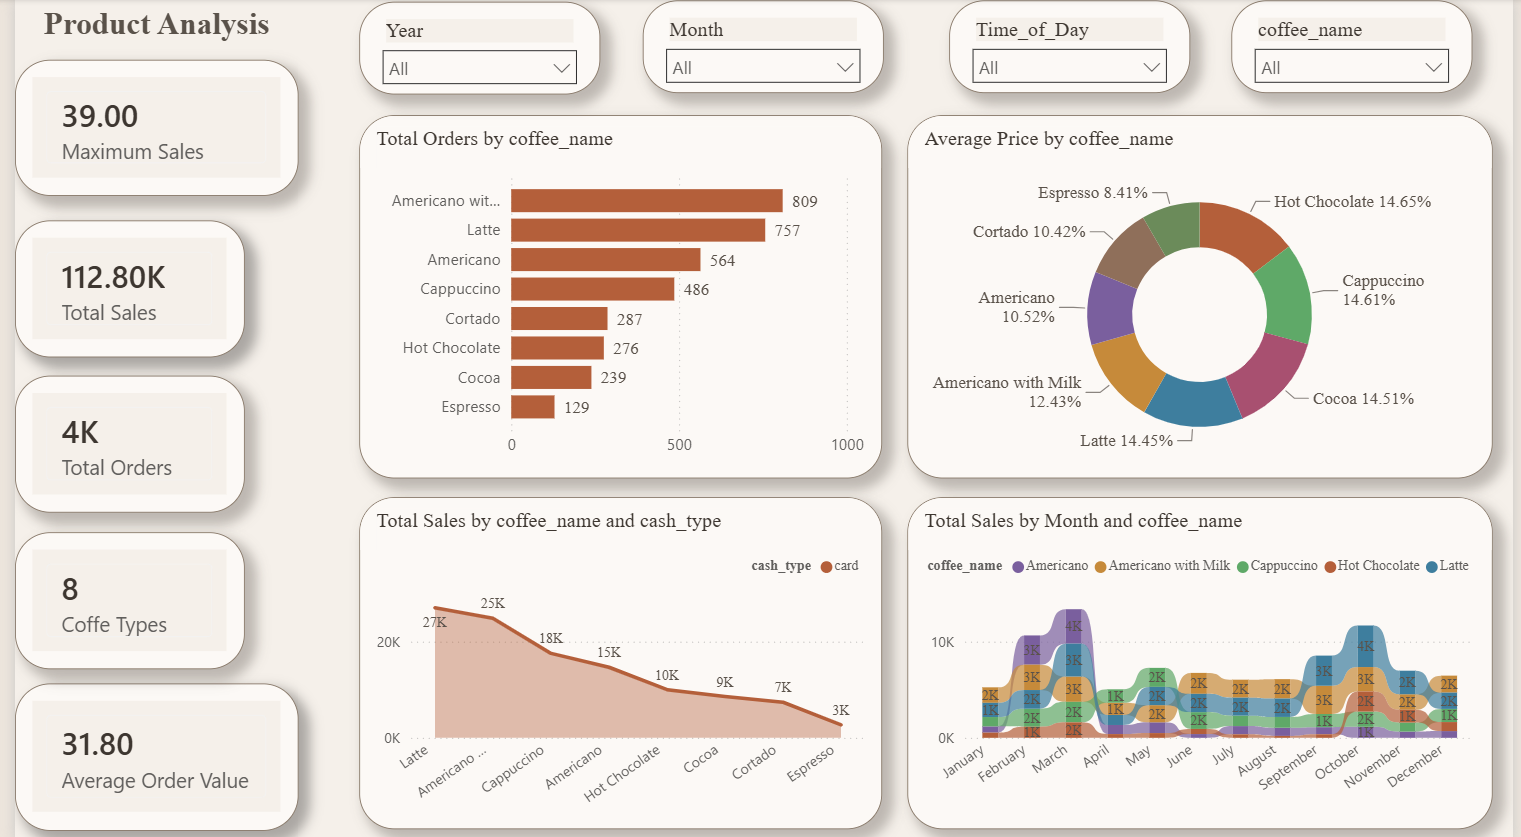

The dashboard page shown, as its layout file describes it:
{"tool":"powerbi","page":{"name":"Product Analysis","canvas":[1280,720],"ordinal":1},"visuals":[{"type":"cardVisual","fields":{"Data":["Coffee_shop sales.Total Sales"]},"box":[0,189.2,196.1,117.1],"z":0},{"type":"cardVisual","fields":{"Data":["Coffee_shop sales.Average Order Value"]},"box":[0,584.1,242.1,125.6],"z":1000},{"type":"cardVisual","fields":{"Data":["Coffee_shop sales.Total Orders"]},"box":[0,322.1,196.1,117.1],"z":2000},{"type":"cardVisual","fields":{"Data":["Coffee_shop sales.Coffe Types"]},"box":[0,455,196.1,117.1],"z":3000},{"type":"clusteredBarChart","fields":{"Category":["Coffee_shop sales.coffee_name"],"Y":["Coffee_shop sales.Total Orders"]},"box":[293.9,99.7,446.6,310.7],"z":4000},{"type":"donutChart","fields":{"Category":["Coffee_shop sales.coffee_name"],"Y":["Coffee_shop sales.Average Price"]},"box":[762.5,99.7,499.7,310.7],"z":5000},{"type":"areaChart","fields":{"Category":["Coffee_shop sales.coffee_name"],"Series":["Coffee_shop sales.cash_type"],"Y":["Coffee_shop sales.Total Sales"]},"box":[293.9,425.9,446.6,283.5],"z":7000},{"type":"slicer","fields":{"Values":["Coffee_shop sales.Year"]},"box":[293.9,2.6,205.8,79],"z":8000},{"type":"slicer","fields":{"Values":["Coffee_shop sales.Month"]},"box":[535.9,1.3,205.8,79],"z":9000},{"type":"slicer","fields":{"Values":["Coffee_shop sales.coffee_name"]},"box":[1039.5,1.3,205.8,79],"z":10000},{"type":"slicer","fields":{"Values":["Coffee_shop sales.Time_of_Day"]},"box":[797.5,1.3,205.8,79],"z":11000},{"type":"textbox","box":[0,0,242.1,51.8],"z":12000},{"type":"cardVisual","fields":{"Data":["Coffee_shop sales.Maximum Sales"]},"box":[0,51.8,242.1,116.5],"z":13000},{"type":"ribbonChart","fields":{"Category":["Coffee_shop sales.Date.Variation.Date Hierarchy.Month"],"Series":["Coffee_shop sales.coffee_name"],"Y":["Coffee_shop sales.Total Sales"]},"box":[762.5,425.9,499.7,283.5],"z":14000}]}

Visuals, with their boxes in screenshot pixels (x1, y1, x2, y2), scaled from the page's 1280x720 canvas onto the 1521x837 screenshot:
cardVisual - Coffee_shop sales.Total Sales: x1=0, y1=220, x2=233, y2=356
cardVisual - Coffee_shop sales.Average Order Value: x1=0, y1=679, x2=288, y2=825
cardVisual - Coffee_shop sales.Total Orders: x1=0, y1=374, x2=233, y2=511
cardVisual - Coffee_shop sales.Coffe Types: x1=0, y1=529, x2=233, y2=665
clusteredBarChart - Coffee_shop sales.coffee_name x Coffee_shop sales.Total Orders: x1=349, y1=116, x2=880, y2=477
donutChart - Coffee_shop sales.coffee_name x Coffee_shop sales.Average Price: x1=906, y1=116, x2=1500, y2=477
areaChart - Coffee_shop sales.coffee_name x Coffee_shop sales.cash_type: x1=349, y1=495, x2=880, y2=825
slicer - Coffee_shop sales.Year: x1=349, y1=3, x2=594, y2=95
slicer - Coffee_shop sales.Month: x1=637, y1=2, x2=881, y2=93
slicer - Coffee_shop sales.coffee_name: x1=1235, y1=2, x2=1480, y2=93
slicer - Coffee_shop sales.Time_of_Day: x1=948, y1=2, x2=1192, y2=93
textbox: x1=0, y1=0, x2=288, y2=60
cardVisual - Coffee_shop sales.Maximum Sales: x1=0, y1=60, x2=288, y2=196
ribbonChart - Coffee_shop sales.Date.Variation.Date Hierarchy.Month x Coffee_shop sales.coffee_name: x1=906, y1=495, x2=1500, y2=825
